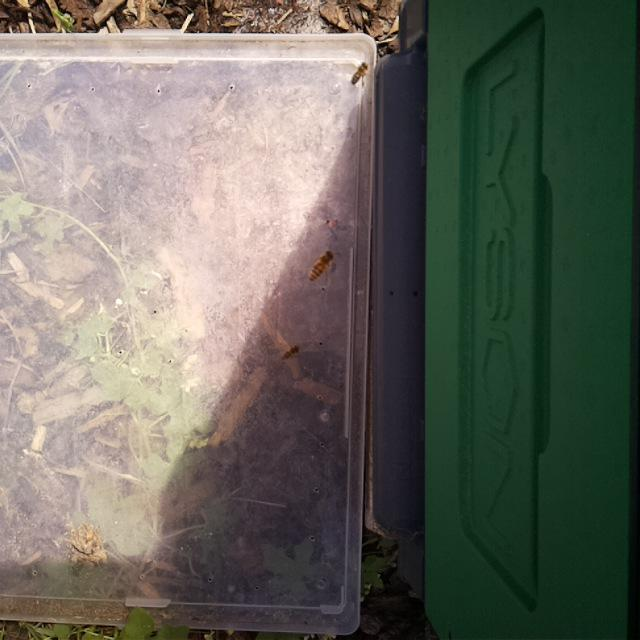worker-bee: (304, 248, 342, 287), (273, 339, 308, 365), (346, 59, 372, 91)
